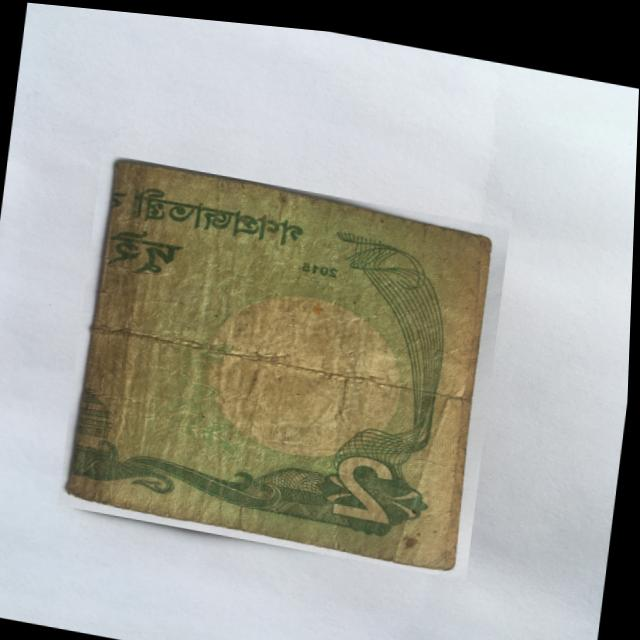Taka: (60, 149, 512, 572)
